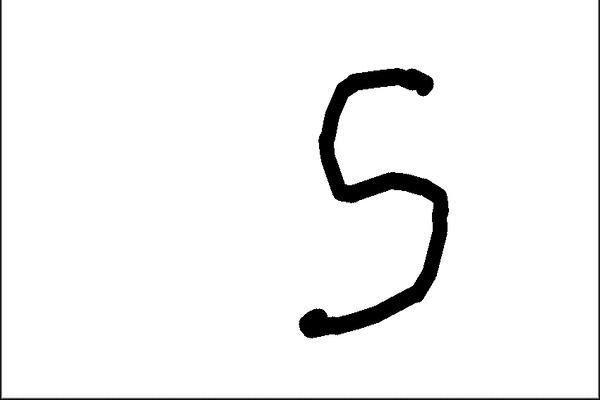S: (296, 65, 454, 340)
